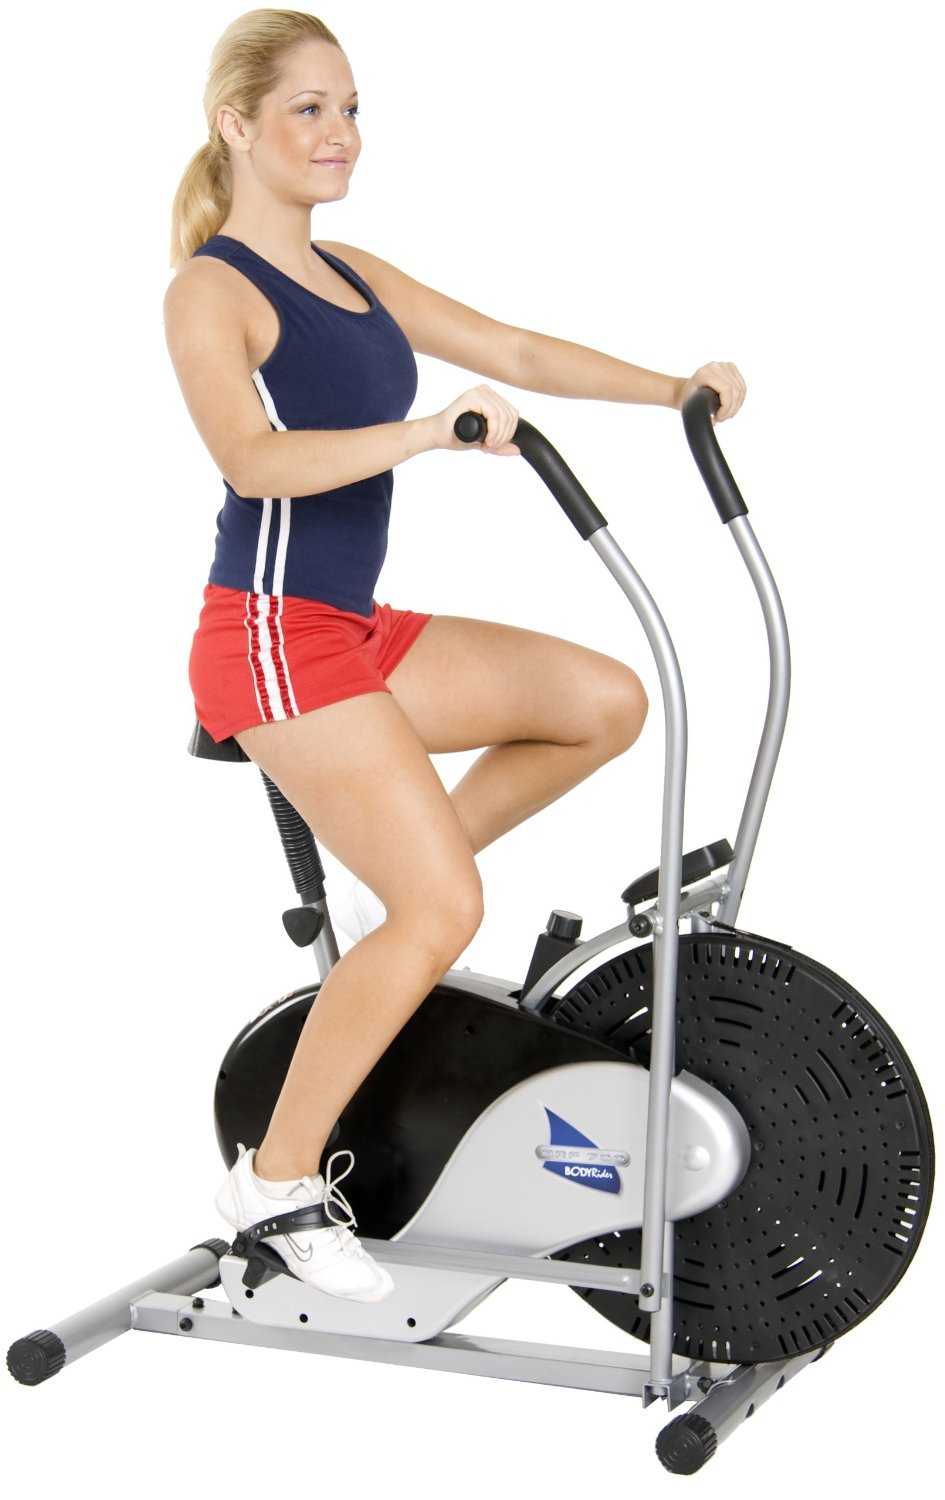gym_bike: (30, 379, 911, 1484)
